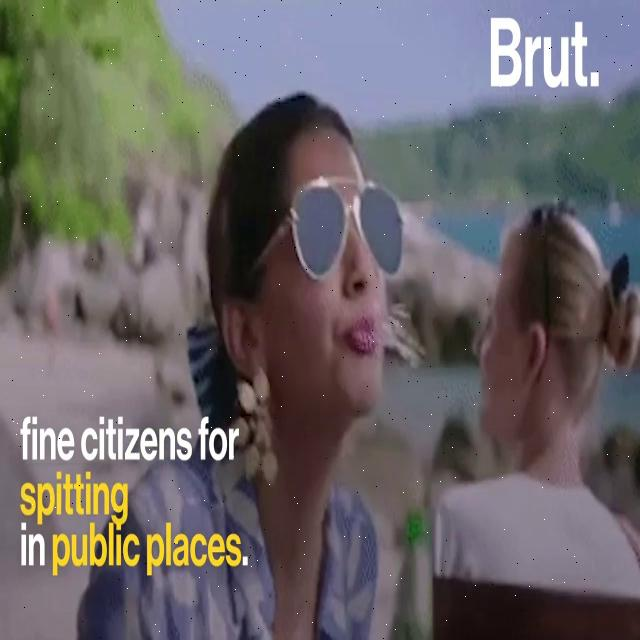spit: (324, 287, 449, 400)
